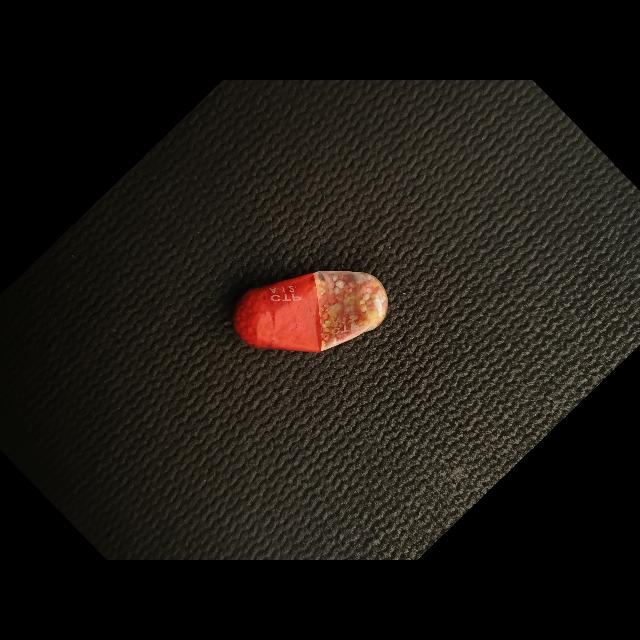Defective Capsule: (233, 271, 388, 353)
